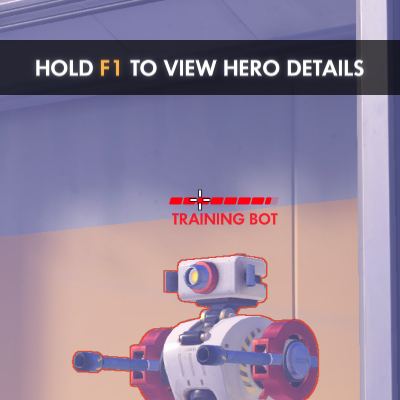hpbar: (169, 196, 279, 206)
